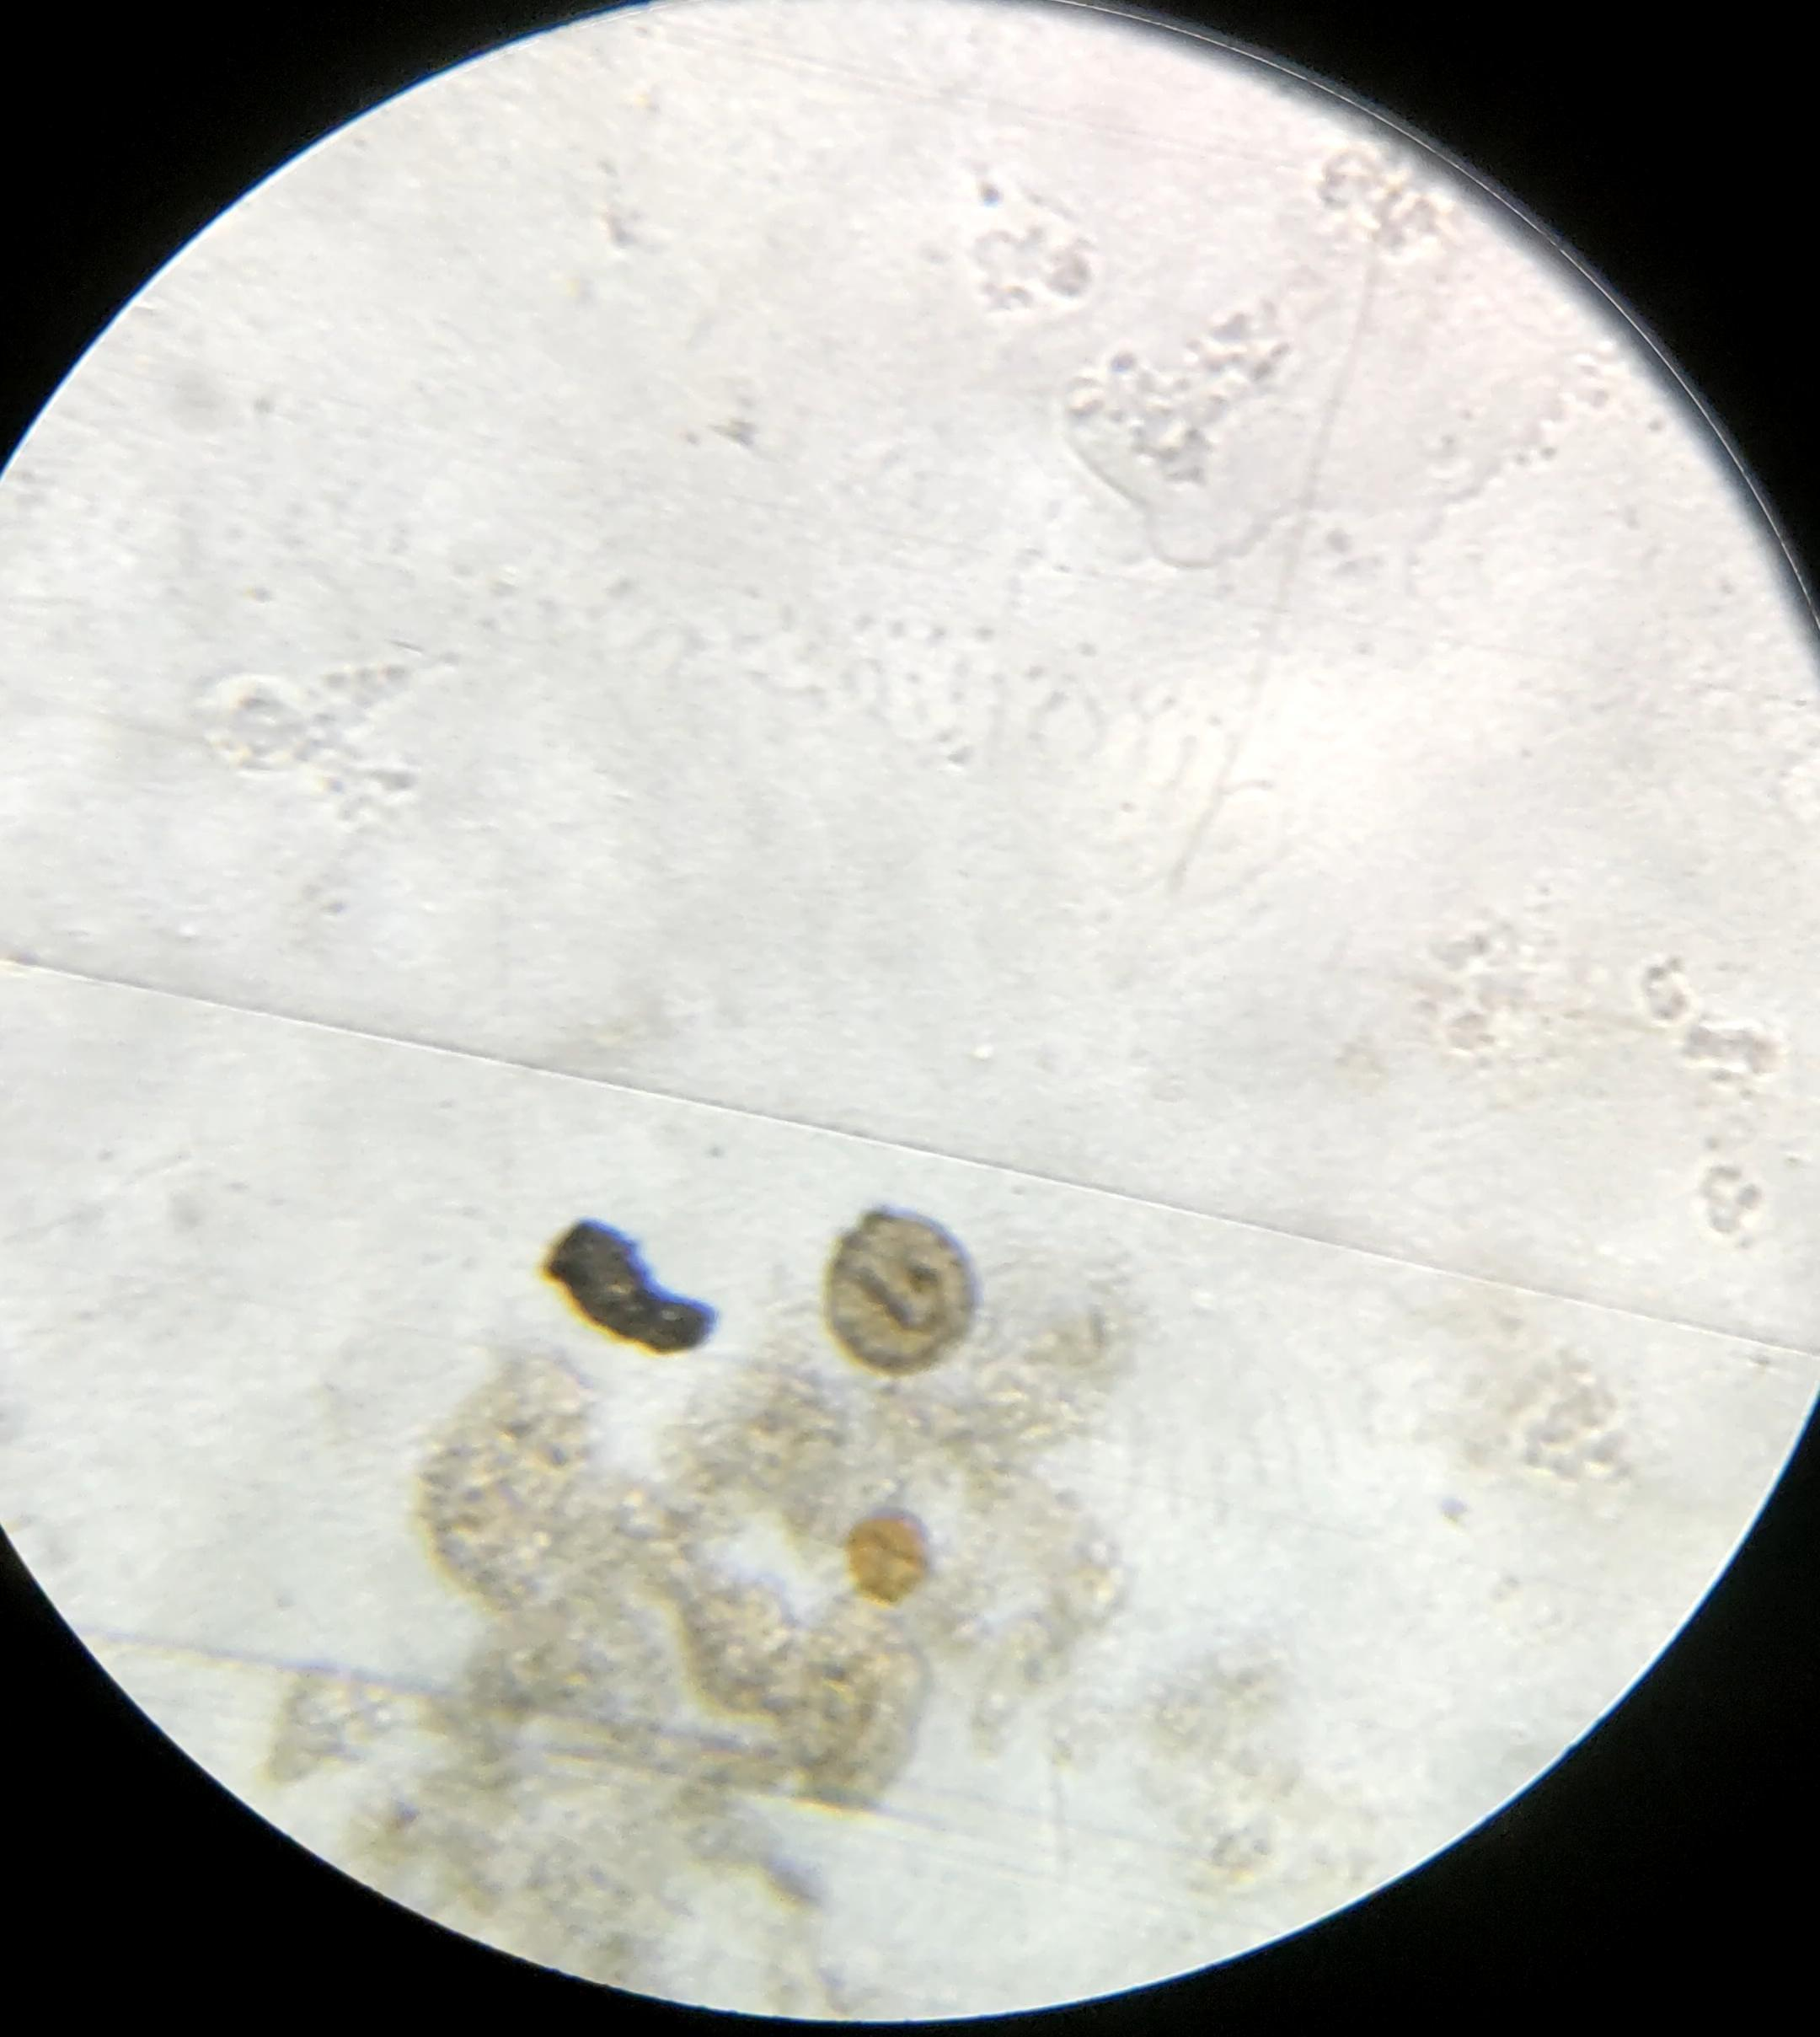Arcella: (833, 1218, 971, 1367), (849, 1511, 926, 1596)
